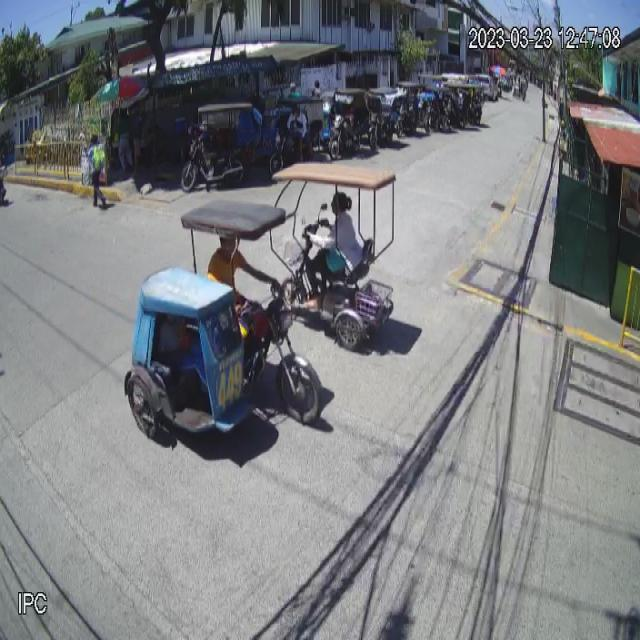Tricycle: (123, 196, 323, 450)
